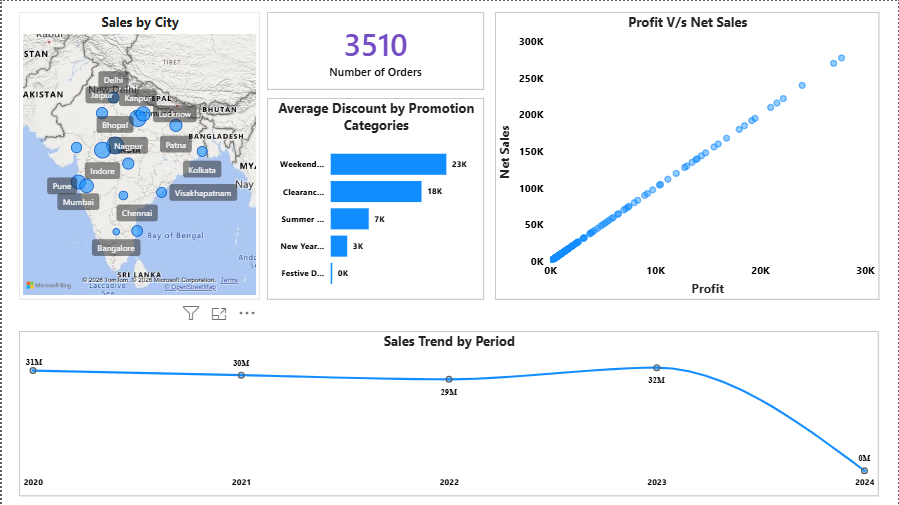

This screenshot's page, from the dashboard's own definition file:
{"tool":"powerbi","page":{"name":"Overview","canvas":[1280,720],"ordinal":0},"visuals":[{"type":"lineChart","title":"Sales Trend by Period","fields":{"Y":["Sum(Fact Table.Net Sales)"],"Category":["Date Table 1.Date.Variation.Date Hierarchy.Year","Date Table 1.Date.Variation.Date Hierarchy.Quarter","Date Table 1.Date.Variation.Date Hierarchy.Month","Date Table 1.Date.Variation.Date Hierarchy.Day"]},"box":[24.9,471.2,1227.8,235.6],"z":0},{"type":"scatterChart","title":"Profit V/s Net Sales","fields":{"X":["Fact Table.Profit"],"Y":["Fact Table.Net Sales"]},"box":[703.9,16.1,548.8,411.2],"z":1000},{"type":"barChart","title":"Average Discount by Promotion Categories","fields":{"Y":["Avg(Fact Table.Discount)"],"Category":["Dim Promotion.Promotion Name"]},"box":[379,139,310.2,288.3],"z":2000},{"type":"map","title":"Sales by City","fields":{"Category":["Dim Customers.City"],"Size":["Sum(Fact Table.Net Sales)"]},"box":[24.9,16.1,343.9,411.2],"z":3000},{"type":"card","fields":{"Values":["Count(Fact Table.Order ID)"]},"box":[379,16.1,310.2,111.2],"z":4000}]}

Visuals, with their boxes in screenshot pixels (x1, y1, x2, y2), scaled from the page's 1280x720 canvas onto the 899x505 screenshot:
"Sales Trend by Period" lineChart: [left=17, top=330, right=880, bottom=496]
"Profit V/s Net Sales" scatterChart: [left=494, top=11, right=880, bottom=300]
"Average Discount by Promotion Categories" barChart: [left=266, top=97, right=484, bottom=300]
"Sales by City" map: [left=17, top=11, right=259, bottom=300]
card - Count(Fact Table.Order ID): [left=266, top=11, right=484, bottom=89]
